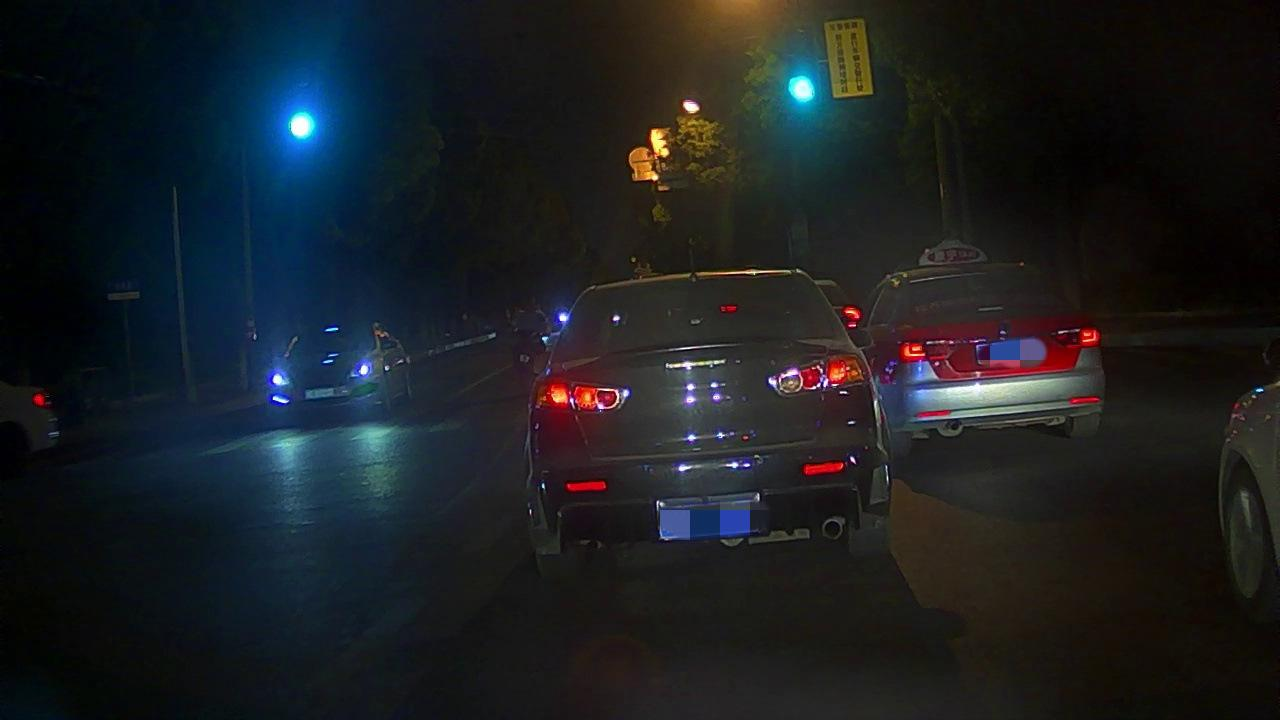traffic_light: (281, 105, 322, 147), (783, 71, 818, 106)
